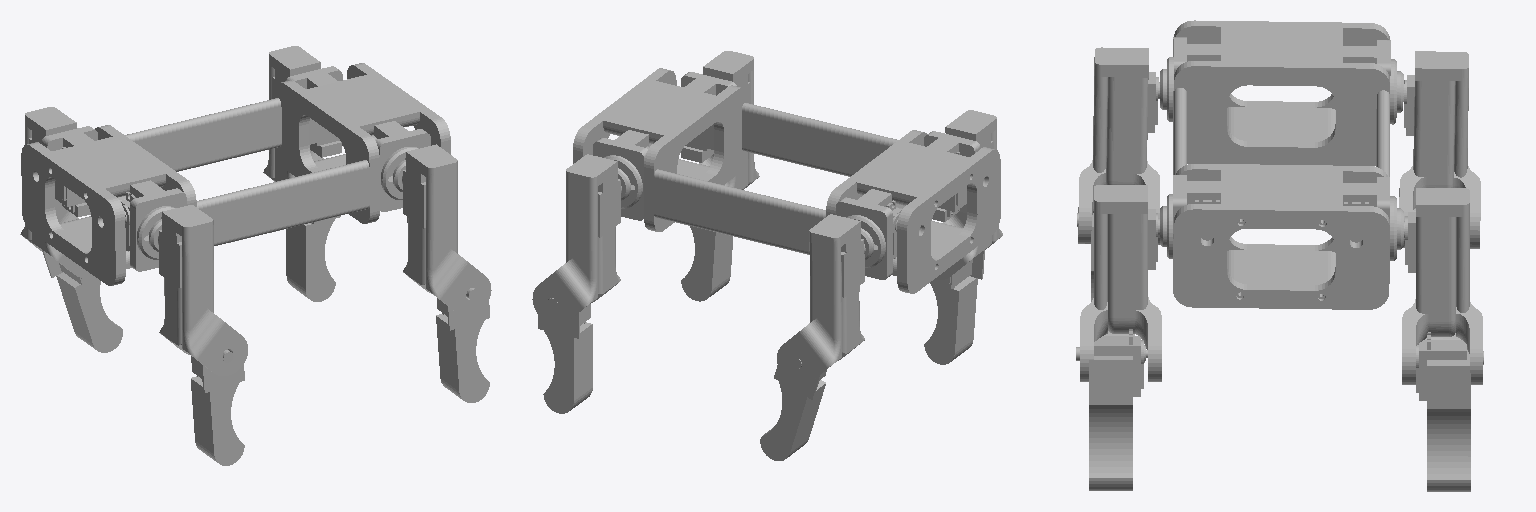
URDF robot description (cheeta_pkg_v4):
<?xml version="1.0" encoding="utf-8"?>
<!-- This URDF was automatically created by SolidWorks to URDF Exporter! Originally created by Stephen Brawner ([email redacted])
     Commit Version: 1.5.1-0-g916b5db  Build Version: 1.5.7152.31018
     For more information, please see http://wiki.ros.org/sw_urdf_exporter -->
<robot
  name="cheeta_pkg_v4">
  <link
    name="base_link">
    <inertial>
      <origin
        xyz="-0.0030602 0.000606 -0.0024102"
        rpy="0 0 0" />
      <mass
        value="0.80181" />
      <inertia
        ixx="0.0017391"
        ixy="-7.1351E-19"
        ixz="7.8351E-20"
        iyy="0.0011723"
        iyz="8.3765E-06"
        izz="0.0017256" />
    </inertial>
    <visual>
      <origin
        xyz="0 0 0"
        rpy="0 0 0" />
      <geometry>
        <mesh
          filename="package://cheeta_pkg_v4/meshes/base_link.STL" />
      </geometry>
      <material
        name="">
        <color
          rgba="0.75294 0.75294 0.75294 1" />
      </material>
    </visual>
    <collision>
      <origin
        xyz="0 0 0"
        rpy="0 0 0" />
      <geometry>
        <mesh
          filename="package://cheeta_pkg_v4/meshes/base_link.STL" />
      </geometry>
    </collision>
  </link>
  <link
    name="abductor1_link">
    <inertial>
      <origin
        xyz="-0.011184 -0.008665 -0.028915"
        rpy="0 0 0" />
      <mass
        value="0.087801" />
      <inertia
        ixx="2.3479E-05"
        ixy="2.2102E-06"
        ixz="4.9491E-07"
        iyy="4.0046E-05"
        iyz="2.609E-06"
        izz="3.3238E-05" />
    </inertial>
    <visual>
      <origin
        xyz="0 0 0"
        rpy="0 0 0" />
      <geometry>
        <mesh
          filename="package://cheeta_pkg_v4/meshes/abductor1_link.STL" />
      </geometry>
      <material
        name="">
        <color
          rgba="0.75294 0.75294 0.75294 1" />
      </material>
    </visual>
    <collision>
      <origin
        xyz="0 0 0"
        rpy="0 0 0" />
      <geometry>
        <mesh
          filename="package://cheeta_pkg_v4/meshes/abductor1_link.STL" />
      </geometry>
    </collision>
  </link>
  <joint
    name="abductor1_joint"
    type="revolute">
    <origin
      xyz="0.144939786584407 0.0558284749900594 0.0118733032573917"
      rpy="-1.57145977887313 -1.57079631189374 -1.57079632679467" />
    <parent
      link="base_link" />
    <child
      link="abductor1_link" />
    <axis
      xyz="0 0 1" />
    <limit
      lower="-3.1416"
      upper="3.1416"
      effort="300"
      velocity="15" />
    <dynamics
      damping="0.05"
      friction="0.1" />
  </joint>
  <link
    name="muslo1_link">
    <inertial>
      <origin
        xyz="-0.032741 -0.028029 0.027728"
        rpy="0 0 0" />
      <mass
        value="0.17564" />
      <inertia
        ixx="0.0001594"
        ixy="-9.9344E-05"
        ixz="-6.8942E-06"
        iyy="0.00012193"
        iyz="-6.2762E-06"
        izz="0.00023829" />
    </inertial>
    <visual>
      <origin
        xyz="0 0 0"
        rpy="0 0 0" />
      <geometry>
        <mesh
          filename="package://cheeta_pkg_v4/meshes/muslo1_link.STL" />
      </geometry>
      <material
        name="">
        <color
          rgba="0.75294 0.75294 0.75294 1" />
      </material>
    </visual>
    <collision>
      <origin
        xyz="0 0 0"
        rpy="0 0 0" />
      <geometry>
        <mesh
          filename="package://cheeta_pkg_v4/meshes/muslo1_link.STL" />
      </geometry>
    </collision>
  </link>
  <joint
    name="muslo1_joint"
    type="revolute">
    <origin
      xyz="-0.0108654 -0.030737 -0.028"
      rpy="1.5708 1.57 0" />
    <parent
      link="abductor1_link" />
    <child
      link="muslo1_link" />
    <axis
      xyz="0 0 1" />
    <limit
      lower="-3.1416"
      upper="3.1416"
      effort="300"
      velocity="15" />
    <dynamics
      damping="0.05"
      friction="0.1" />
  </joint>
  <link
    name="tobillo1_link">
    <inertial>
      <origin
        xyz="-0.030588 0.0057261 -0.019121"
        rpy="0 0 0" />
      <mass
        value="0.10067" />
      <inertia
        ixx="1.8616E-05"
        ixy="3.3005E-06"
        ixz="-1.054E-05"
        iyy="8.0339E-05"
        iyz="1.1024E-06"
        izz="7.4714E-05" />
    </inertial>
    <visual>
      <origin
        xyz="0 0 0"
        rpy="0 0 0" />
      <geometry>
        <mesh
          filename="package://cheeta_pkg_v4/meshes/tobillo1_link.STL" />
      </geometry>
      <material
        name="">
        <color
          rgba="0.75294 0.75294 0.75294 1" />
      </material>
    </visual>
    <collision>
      <origin
        xyz="0 0 0"
        rpy="0 0 0" />
      <geometry>
        <mesh
          filename="package://cheeta_pkg_v4/meshes/tobillo1_link.STL" />
      </geometry>
    </collision>
  </link>
  <joint
    name="tobillo1_joint"
    type="revolute">
    <!--- xyz="-0.0127837602404866 0.0950382018322965 0.00845621900238935"
      rpy="0 -0.0151338374432169 0" / -->
    <origin
      xyz="-0.025 -0.0925 0.0081226910564016"
      rpy="0 0 1.570796327" />
    <parent
      link="muslo1_link" />
    <child
      link="tobillo1_link" />
    <axis
      xyz="0 0 1" />
    <limit
      lower="-3.1416"
      upper="3.1416"
      effort="300"
      velocity="15" />
    <dynamics
      damping="0.05"
      friction="0.1" />
  </joint>
  <link
    name="abductor2_link">
    <inertial>
      <origin
        xyz="-0.01296 0.0056756 -0.028915"
        rpy="0 0 0" />
      <mass
        value="0.087801" />
      <inertia
        ixx="2.551E-05"
        ixy="-5.8659E-06"
        ixz="1.1163E-06"
        iyy="3.8015E-05"
        iyz="-2.4095E-06"
        izz="3.3238E-05" />
    </inertial>
    <visual>
      <origin
        xyz="0 0 0"
        rpy="0 0 0" />
      <geometry>
        <mesh
          filename="package://cheeta_pkg_v4/meshes/abductor2_link.STL" />
      </geometry>
      <material
        name="">
        <color
          rgba="0.75294 0.75294 0.75294 1" />
      </material>
    </visual>
    <collision>
      <origin
        xyz="0 0 0"
        rpy="0 0 0" />
      <geometry>
        <mesh
          filename="package://cheeta_pkg_v4/meshes/abductor2_link.STL" />
      </geometry>
    </collision>
  </link>
  <joint
    name="abductor2_joint"
    type="revolute">
    <origin
      xyz="-0.15106 0.055828 0.011873"
      rpy="-1.5708 -1.5557 1.5708" />
    <parent
      link="base_link" />
    <child
      link="abductor2_link" />
    <axis
      xyz="0 0 1" />
    <limit
      lower="-3.1416"
      upper="3.1416"
      effort="300"
      velocity="15" />
    <dynamics
      damping="0.05"
      friction="0.1" />
  </joint>
  <link
    name="muslo2_link">
    <inertial>
      <origin
        xyz="0.026044 0.037079 0.023943"
        rpy="0 0 0" />
      <mass
        value="0.17563" />
      <inertia
        ixx="0.00022671"
        ixy="-5.3779E-05"
        ixz="4.022E-06"
        iyy="5.5523E-05"
        iyz="1.2653E-05"
        izz="0.00023738" />
    </inertial>
    <visual>
      <origin
        xyz="0 0 0"
        rpy="0 0 0" />
      <geometry>
        <mesh
          filename="package://cheeta_pkg_v4/meshes/muslo2_link.STL" />
      </geometry>
      <material
        name="">
        <color
          rgba="0.75294 0.75294 0.75294 1" />
      </material>
    </visual>
    <collision>
      <origin
        xyz="0 0 0"
        rpy="0 0 0" />
      <geometry>
        <mesh
          filename="package://cheeta_pkg_v4/meshes/muslo2_link.STL" />
      </geometry>
    </collision>
  </link>
  <joint
    name="muslo2_joint"
    type="revolute">
    <origin
      xyz="-0.0108819484572151 0.030088845477184 -0.028"
      rpy="1.5707963267949 1.57 -3.14159265358979" />
    <parent
      link="abductor2_link" />
    <child
      link="muslo2_link" />
    <axis
      xyz="0.015133259758379 0 -0.999885485667777" />
    <limit
      lower="-3.1416"
      upper="3.1416"
      effort="300"
      velocity="15" />
    <dynamics
      damping="0.05"
      friction="0.1" />
  </joint>
  <link
    name="tobillo2_link">
    <inertial>
      <origin
        xyz="0.050316 0.007602 0.010147"
        rpy="0 0 0" />
      <mass
        value="0.10067" />
      <inertia
        ixx="3.1441E-05"
        ixy="-1.6336E-05"
        ixz="2.0803E-05"
        iyy="7.5156E-05"
        iyz="6.8787E-06"
        izz="6.7072E-05" />
    </inertial>
    <visual>
      <origin
        xyz="0 0 0"
        rpy="0 0 0" />
      <geometry>
        <mesh
          filename="package://cheeta_pkg_v4/meshes/tobillo2_link.STL" />
      </geometry>
      <material
        name="">
        <color
          rgba="0.75294 0.75294 0.75294 1" />
      </material>
    </visual>
    <collision>
      <origin
        xyz="0 0 0"
        rpy="0 0 0" />
      <geometry>
        <mesh
          filename="package://cheeta_pkg_v4/meshes/tobillo2_link.STL" />
      </geometry>
    </collision>
  </link>
  <joint
    name="tobillo2_joint"
    type="revolute">
    <origin
      xyz="0.0258486456049929 0.0925 0.0076"
      rpy="0 0 1.27" />
    <parent
      link="muslo2_link" />
    <child
      link="tobillo2_link" />
    <axis
      xyz="0 0 -1" />
    <limit
      lower="-3.1416"
      upper="3.1416"
      effort="300"
      velocity="15" />
    <dynamics
      damping="0.05"
      friction="0.1" />
  </joint>
  <link
    name="abductor3_link">
    <inertial>
      <origin
        xyz="-0.0091904 0.010757 -0.028915"
        rpy="0 0 0" />
      <mass
        value="0.087801" />
      <inertia
        ixx="2.3283E-05"
        ixy="1.2687E-06"
        ixz="-4.5562E-08"
        iyy="4.0242E-05"
        iyz="-2.6551E-06"
        izz="3.3238E-05" />
    </inertial>
    <visual>
      <origin
        xyz="0 0 0"
        rpy="0 0 0" />
      <geometry>
        <mesh
          filename="package://cheeta_pkg_v4/meshes/abductor3_link.STL" />
      </geometry>
      <material
        name="">
        <color
          rgba="0.75294 0.75294 0.75294 1" />
      </material>
    </visual>
    <collision>
      <origin
        xyz="0 0 0"
        rpy="0 0 0" />
      <geometry>
        <mesh
          filename="package://cheeta_pkg_v4/meshes/abductor3_link.STL" />
      </geometry>
    </collision>
  </link>
  <joint
    name="abductor3_joint"
    type="revolute">
    <origin
      xyz="0.14494 -0.054159 0.013538"
      rpy="-1.5708 -1.5708 -1.5708" />
    <parent
      link="base_link" />
    <child
      link="abductor3_link" />
    <axis
      xyz="0 0 -1" />
    <limit
      lower="-3.1416"
      upper="3.1416"
      effort="300"
      velocity="15" />
    <dynamics
      damping="0.05"
      friction="0.1" />
  </joint>
  <link
    name="muslo3_link">
    <inertial>
      <origin
        xyz="0.00695144352453009 -0.0390164148800795 0.0324930436073015"
        rpy="0 0 0" />
      <mass
        value="0.175633361338535" />
      <inertia
        ixx="0.000238164844520679"
        ixy="2.46651107780594E-05"
        ixz="4.98189550567534E-07"
        iyy="4.27042124006498E-05"
        iyz="1.01072737475027E-05"
        izz="0.000238744604178462" />
    </inertial>
    <visual>
      <origin
        xyz="0 0 0"
        rpy="0 0 0" />
      <geometry>
        <mesh
          filename="package://cheeta_pkg_v4/meshes/muslo3_link.STL" />
      </geometry>
      <material
        name="">
        <color
          rgba="0.752941176470588 0.752941176470588 0.752941176470588 1" />
      </material>
    </visual>
    <collision>
      <origin
        xyz="0 0 0"
        rpy="0 0 0" />
      <geometry>
        <mesh
          filename="package://cheeta_pkg_v4/meshes/muslo3_link.STL" />
      </geometry>
    </collision>
  </link>
  <joint
    name="muslo3_joint"
    type="revolute">
    <origin
      xyz="-0.01000789906171363 0.0307009998324582 -0.0280000000000002"
      rpy="1.5707963267949 -1.57 3.14159265358979" />
    <parent
      link="abductor3_link" />
    <child
      link="muslo3_link" />
    <axis
      xyz="0 0 1" />
    <limit
      lower="-3.1416"
      upper="3.1416"
      effort="300"
      velocity="15" />
    <dynamics
      damping="0.05"
      friction="0.1" />
  </joint>
  <link
    name="tobillo3_link">
    <inertial>
      <origin
        xyz="0.040525 -0.0093071 0.031041"
        rpy="0 0 0" />
      <mass
        value="0.10067" />
      <inertia
        ixx="2.3383E-05"
        ixy="1.9768E-05"
        ixz="-9.9044E-07"
        iyy="7.3657E-05"
        iyz="9.649E-07"
        izz="7.6629E-05" />
    </inertial>
    <visual>
      <origin
        xyz="0 0 0"
        rpy="0 0 0" />
      <geometry>
        <mesh
          filename="package://cheeta_pkg_v4/meshes/tobillo3_link.STL" />
      </geometry>
      <material
        name="">
        <color
          rgba="0.75294 0.75294 0.75294 1" />
      </material>
    </visual>
    <collision>
      <origin
        xyz="0 0 0"
        rpy="0 0 0" />
      <geometry>
        <mesh
          filename="package://cheeta_pkg_v4/meshes/tobillo3_link.STL" />
      </geometry>
    </collision>
  </link>
  <joint
    name="tobillo3_joint"
    type="revolute">

    <origin
      xyz="0.0257675325458557 -0.0915293601607581 0.0108872557651566"
      rpy="0 0 -1.27" />
    <parent
      link="muslo3_link" />
    <child
      link="tobillo3_link" />
    <axis
      xyz="0 0 1" />
    <limit
      lower="-3.1416"
      upper="3.1416"
      effort="300"
      velocity="15" />
    <dynamics
      damping="0.05"
      friction="0.1" />
  </joint>
  <link
    name="abductor4_link">
    <inertial>
      <origin
        xyz="-0.010171 -0.0098349 -0.028915"
        rpy="0 0 0" />
      <mass
        value="0.087801" />
      <inertia
        ixx="2.3196E-05"
        ixy="3.5838E-07"
        ixz="2.0694E-07"
        iyy="4.0329E-05"
        iyz="2.6474E-06"
        izz="3.3238E-05" />
    </inertial>
    <visual>
      <origin
        xyz="0 0 0"
        rpy="0 0 0" />
      <geometry>
        <mesh
          filename="package://cheeta_pkg_v4/meshes/abductor4_link.STL" />
      </geometry>
      <material
        name="">
        <color
          rgba="0.75294 0.75294 0.75294 1" />
      </material>
    </visual>
    <collision>
      <origin
        xyz="0 0 0"
        rpy="0 0 0" />
      <geometry>
        <mesh
          filename="package://cheeta_pkg_v4/meshes/abductor4_link.STL" />
      </geometry>
    </collision>
  </link>
  <joint
    name="abductor4_joint"
    type="revolute">
    <origin
      xyz=" -0.151060213415592 -0.0541589284333917 0.0135379618308107"
      rpy="-1.57013287471666 -1.57079631189374 1.57079632679467" />
    <parent
      link="base_link" />
    <child
      link="abductor4_link" />
    <axis
      xyz="0 0 1" />
    <limit
      lower="-3.1416"
      upper="3.1416"
      effort="300"
      velocity="15" />
    <dynamics
      damping="0.05"
      friction="0.1" />
  </joint>
  <link
    name="muslo4_link">
    <inertial>
      <origin
        xyz="-0.0037038 0.039999 0.031823"
        rpy="0 0 0" />
      <mass
        value="0.17563" />
      <inertia
        ixx="0.00024121"
        ixy="-8.6827E-06"
        ixz="-1.853E-06"
        iyy="3.9893E-05"
        iyz="-8.5982E-06"
        izz="0.00023851" />
    </inertial>
    <visual>
      <origin
        xyz="0 0 0"
        rpy="0 0 0" />
      <geometry>
        <mesh
          filename="package://cheeta_pkg_v4/meshes/muslo4_link.STL" />
      </geometry>
      <material
        name="">
        <color
          rgba="0.75294 0.75294 0.75294 1" />
      </material>
    </visual>
    <collision>
      <origin
        xyz="0 0 0"
        rpy="0 0 0" />
      <geometry>
        <mesh
          filename="package://cheeta_pkg_v4/meshes/muslo4_link.STL" />
      </geometry>
    </collision>
  </link>
  <joint
    name="muslo4_joint"
    type="revolute">
    <origin
      xyz="-0.0108649683023063 -0.0307075310598279 -0.0279999999999936"
      rpy="1.5707963267947 -1.57 0.0151338374432169" />
    <parent
      link="abductor4_link" />
    <child
      link="muslo4_link" />
    <axis
      xyz="0 0 1" />
    <limit
      lower="-3.1416"
      upper="3.1416"
      effort="300"
      velocity="15" />
    <dynamics
      damping="0.05"
      friction="0.1" />
  </joint>
  <link
    name="tobillo4_link">
    <inertial>
      <origin
        xyz="-0.041723 0.014752 0.027093"
        rpy="0 0 0" />
      <mass
        value="0.10067" />
      <inertia
        ixx="2.9613E-05"
        ixy="2.5553E-05"
        ixz="-3.8286E-06"
        iyy="6.7711E-05"
        iyz="1.4126E-06"
        izz="7.6344E-05" />
    </inertial>
    <visual>
      <origin
        xyz="0 0 0"
        rpy="0 0 0" />
      <geometry>
        <mesh
          filename="package://cheeta_pkg_v4/meshes/tobillo4_link.STL" />
      </geometry>
      <material
        name="">
        <color
          rgba="0.75294 0.75294 0.75294 1" />
      </material>
    </visual>
    <collision>
      <origin
        xyz="0 0 0"
        rpy="0 0 0" />
      <geometry>
        <mesh
          filename="package://cheeta_pkg_v4/meshes/tobillo4_link.STL" />
      </geometry>
    </collision>
  </link>
  <joint
    name="tobillo4_joint"
    type="revolute">

    <origin
      xyz="-0.025 0.0940382018322965 0.00845621900238935"
      rpy="0 -0.0151338374432169 -1.27" />
    <parent
      link="muslo4_link" />
    <child
      link="tobillo4_link" />
    <axis
      xyz="0.015133259758377 0 0.999885485667776" />
    <limit
      lower="-3.1416"
      upper="3.1416"
      effort="300"
      velocity="15" />
    <dynamics
      damping="0.05"
      friction="0.1" />
  </joint>
</robot>

--- Render facts (derived) ---
3 views of the same robot in one strip: view 1: azimuth 30°, elevation 25°; view 2: azimuth 150°, elevation 25°; view 3: azimuth 270°, elevation 25° (orthographic).
Robot: cheeta_pkg_v4 — 13 links, 12 joints (12 revolute); root link base_link; default pose: every joint at zero.
Links seen in each view (by area): view 1: base_link, muslo4_link, muslo3_link, tobillo4_link, tobillo3_link, abductor4_link, tobillo2_link, tobillo1_link, abductor3_link, muslo2_link, muslo1_link, abductor1_link (+1 smaller); view 2: base_link, muslo1_link, muslo2_link, tobillo1_link, tobillo4_link, abductor2_link, tobillo2_link, abductor1_link, tobillo3_link, muslo4_link, muslo3_link, abductor3_link (+1 smaller); view 3: base_link, muslo1_link, muslo3_link, muslo4_link, muslo2_link, tobillo3_link, tobillo1_link, abductor1_link, abductor3_link, abductor2_link, abductor4_link.
Link boxes in pixels (x1,y1,x2,y2): base_link: (21, 63, 450, 285); muslo4_link: (158, 205, 247, 375); muslo3_link: (402, 144, 491, 315); tobillo4_link: (191, 349, 244, 465); tobillo3_link: (436, 288, 489, 402); abductor4_link: (120, 180, 186, 271); tobillo2_link: (42, 250, 122, 352); tobillo1_link: (286, 216, 340, 301); abductor3_link: (352, 121, 430, 211); muslo2_link: (20, 107, 92, 277); muslo1_link: (263, 46, 323, 181); abductor1_link: (286, 66, 343, 157); base_link: (573, 68, 1000, 293); muslo1_link: (532, 154, 621, 324); muslo2_link: (777, 214, 865, 384); tobillo1_link: (538, 298, 592, 413); tobillo4_link: (924, 250, 984, 364); abductor2_link: (836, 189, 901, 279); tobillo2_link: (760, 358, 826, 460); abductor1_link: (593, 130, 671, 220); tobillo3_link: (681, 226, 732, 301); muslo4_link: (935, 110, 1002, 279); muslo3_link: (699, 51, 759, 189); abductor3_link: (681, 72, 736, 162); base_link: (1173, 20, 1389, 309); muslo1_link: (1402, 188, 1482, 384); muslo3_link: (1080, 185, 1161, 381); muslo4_link: (1078, 47, 1159, 244); muslo2_link: (1399, 51, 1480, 248); tobillo3_link: (1076, 329, 1147, 490); tobillo1_link: (1416, 332, 1483, 491); abductor1_link: (1343, 177, 1403, 260); abductor3_link: (1160, 175, 1220, 258); abductor2_link: (1343, 40, 1403, 124); abductor4_link: (1160, 37, 1220, 121).
Bounding box of the posed robot: 0.333 × 0.3014 × 0.2377 m (x, y, z).
13 mesh visuals loaded from 13 distinct referenced files (13 binary STL).
